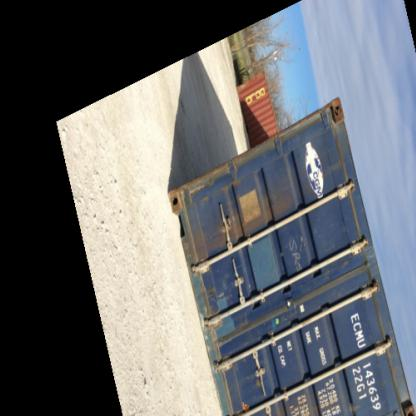Damage: (200, 204, 278, 252), (210, 160, 248, 194), (200, 284, 228, 326), (287, 233, 311, 273), (170, 181, 202, 205), (329, 106, 347, 119)
